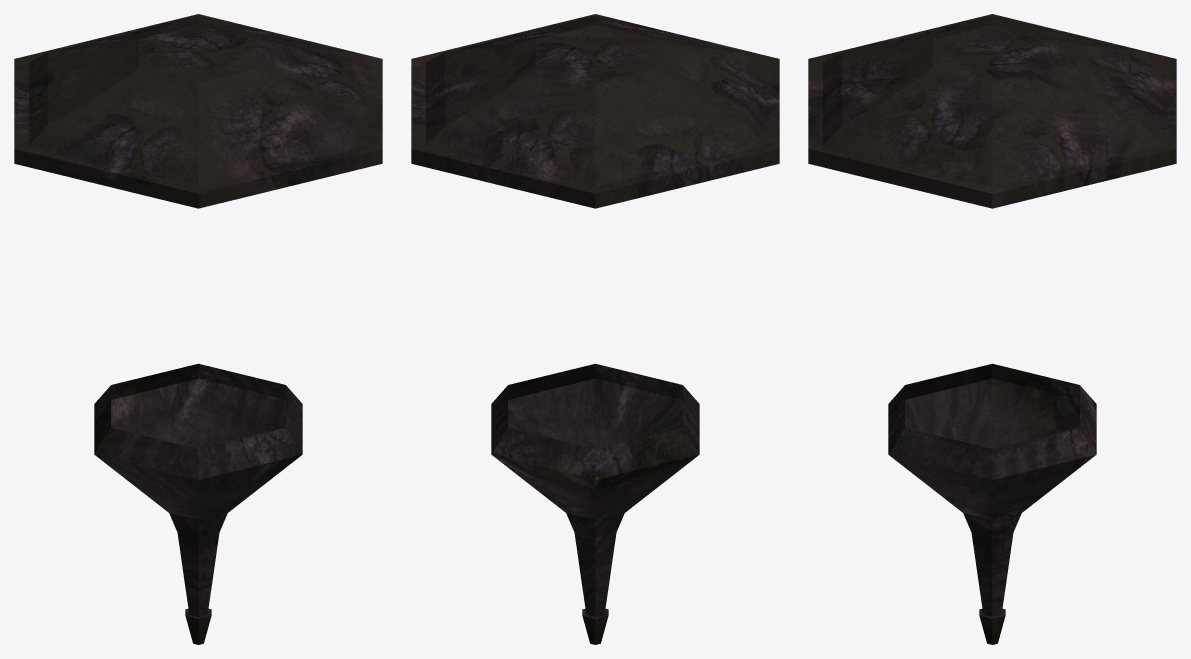
File: Lamp.FBX
The picture shows the model from 3 angles, left to right: view 1: azimuth 30°, elevation 25°; view 2: azimuth 150°, elevation 25°; view 3: azimuth 270°, elevation 25°; orthographic projection.
Parts seen in each view (by area): view 1: Cylinder003; view 2: Cylinder003; view 3: Cylinder003.
Boxes of the visible parts, x1,y1,x2,y2 form: Cylinder003: [14, 14, 382, 644]; Cylinder003: [411, 14, 779, 644]; Cylinder003: [808, 14, 1176, 644].
Size of the model in its own units: 5.39 by 8.23 by 4.67.
